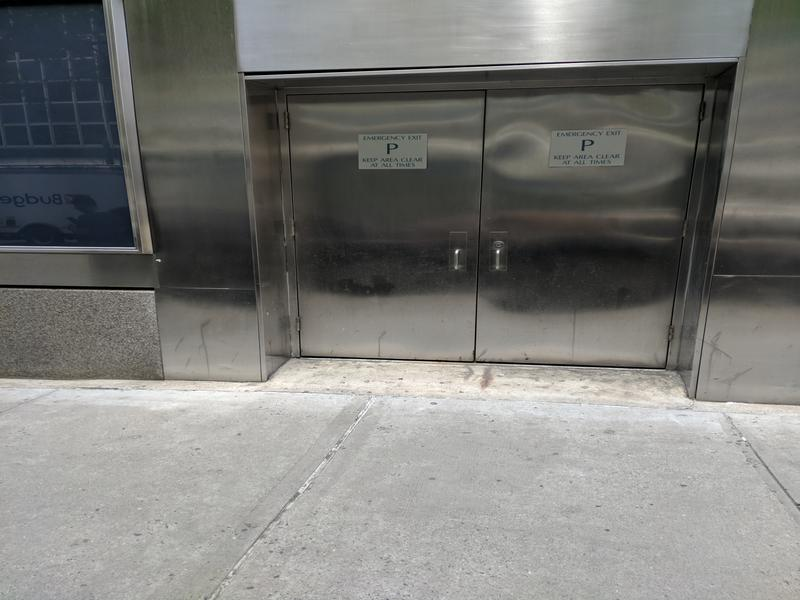double_door: (278, 79, 701, 381)
